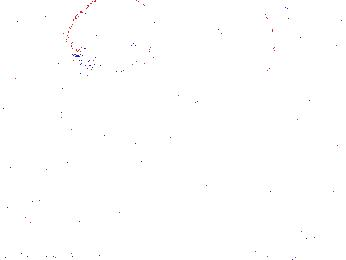moon jellyfish: (196, 1, 276, 89), (66, 1, 167, 67), (38, 90, 135, 144), (286, 3, 346, 80), (2, 13, 62, 86)
